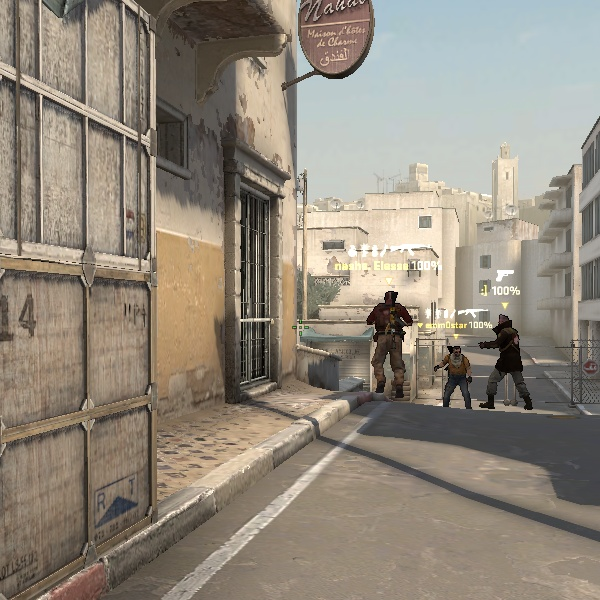t_body: (477, 308, 545, 420), (362, 287, 416, 399), (433, 341, 480, 411)
t_head: (492, 310, 519, 335), (379, 288, 405, 312), (447, 342, 469, 364)
